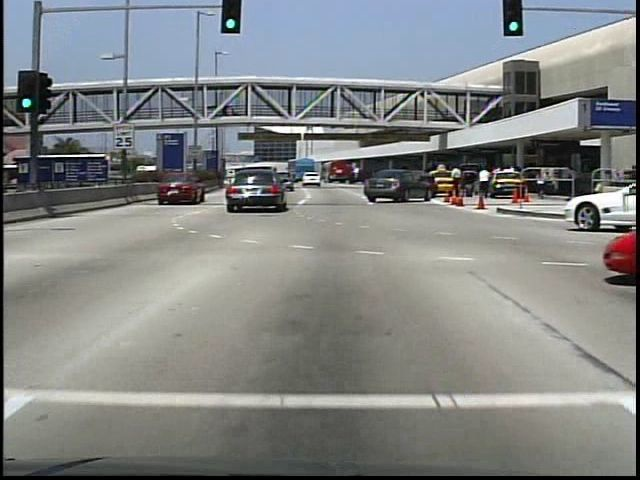person: (449, 166, 467, 204), (474, 167, 492, 202), (532, 167, 548, 202), (219, 99, 229, 119)
